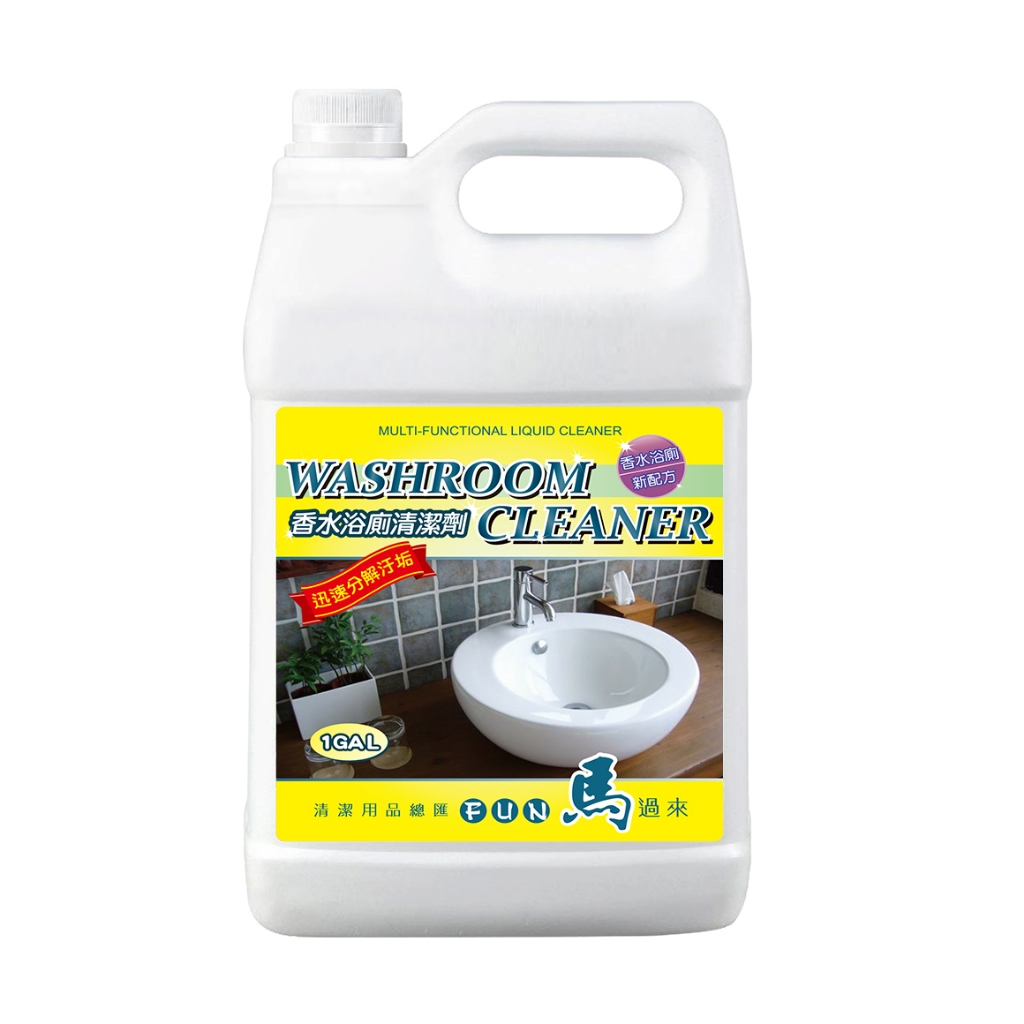cleaner: (219, 60, 764, 939)
